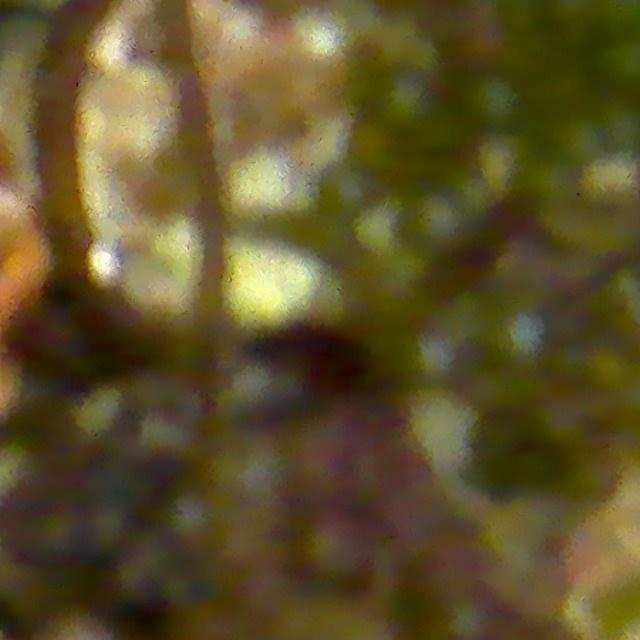SeaGrape: (301, 513, 369, 583), (467, 73, 524, 131), (81, 501, 132, 554), (599, 35, 640, 90)
